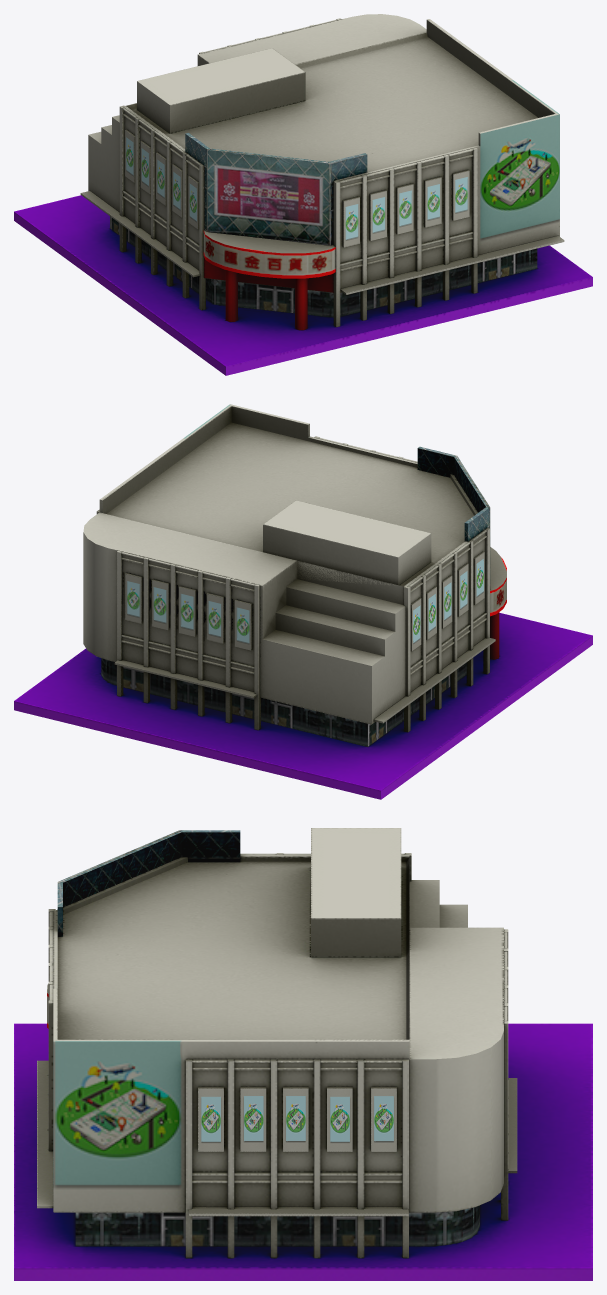
Rendered from hjbh.gltf.
The picture shows the model from 3 angles, top to bottom: view 1: azimuth 30°, elevation 25°; view 2: azimuth 150°, elevation 25°; view 3: azimuth 270°, elevation 25°; orthographic projection. The views are drawn at different scales.
Parts seen in each view (by area): view 1: polySurface101; view 2: polySurface101; view 3: polySurface101.
Part boxes in pixels (left/top/right/bottom): polySurface101: left=14, top=14, right=592, bottom=375; polySurface101: left=14, top=404, right=592, bottom=799; polySurface101: left=14, top=828, right=592, bottom=1280.
Size of the model in its own units: 34.23 by 15.88 by 34.23.
Materials: 1 (1 with a texture image).
